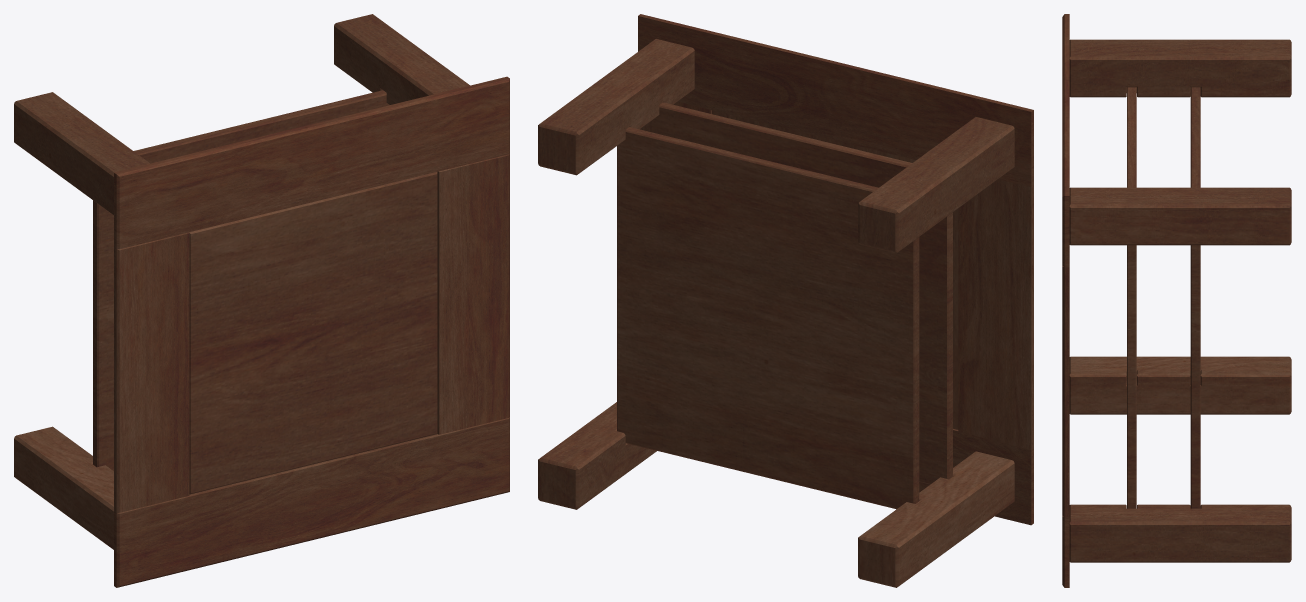
The model's file is table.obj.
3 views of the same model, side by side, from view 1: azimuth 30°, elevation 25°; view 2: azimuth 150°, elevation 25°; view 3: azimuth 270°, elevation 25° (orthographic). The views are drawn at different scales.
Visible parts, largest first — view 1: table; view 2: table; view 3: table.
Part boxes in pixels (x1=…): table: x1=14, y1=14, x2=509, y2=587; table: x1=538, y1=14, x2=1033, y2=587; table: x1=1062, y1=14, x2=1291, y2=587.
Size of the model in its own units: 0.8766 by 0.8806 by 0.4664.
Materials: 1 (1 with a texture image).
